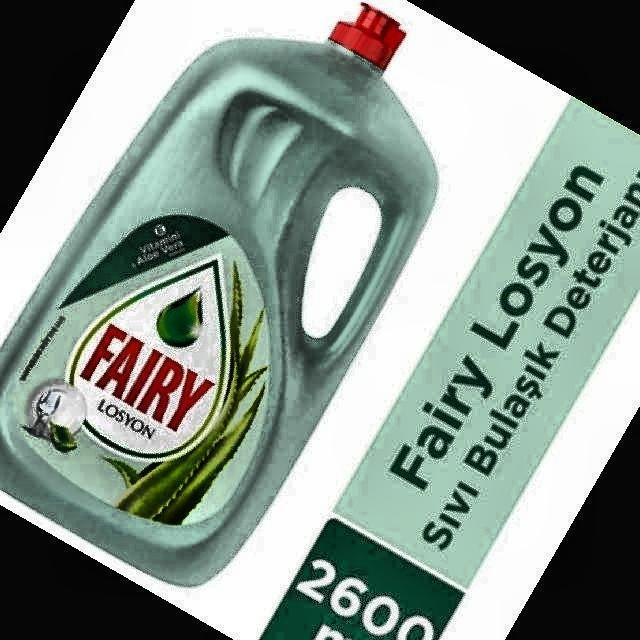plastic: (0, 5, 438, 586)
